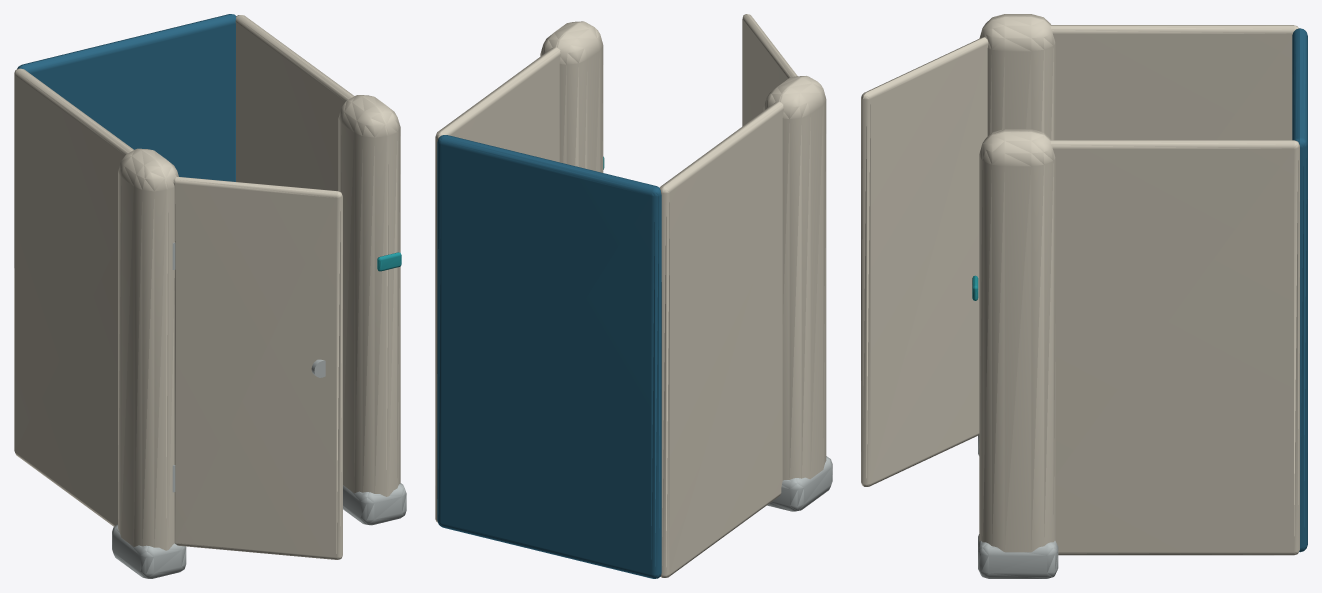
File: 13_advanced_cubicle.glb
3 renders of one model, left to right at view 1: azimuth 30°, elevation 25°; view 2: azimuth 150°, elevation 25°; view 3: azimuth 270°, elevation 25°, orthographic. The views are drawn at different scales.
Visible parts, largest first — view 1: 13_advanced_cubicle__Static, 13_advanced_cubicle__door_moving; view 2: 13_advanced_cubicle__Static, 13_advanced_cubicle__door_moving; view 3: 13_advanced_cubicle__Static, 13_advanced_cubicle__door_moving.
Part boxes in pixels (x1,y1,x2,y2): 13_advanced_cubicle__Static: (14,14,406,578); 13_advanced_cubicle__door_moving: (173,176,342,559); 13_advanced_cubicle__Static: (435,21,832,578); 13_advanced_cubicle__door_moving: (742,14,797,126); 13_advanced_cubicle__Static: (972,14,1307,578); 13_advanced_cubicle__door_moving: (861,37,988,486).
Bounding box in the file's own units: 1.35 × 2 × 1.84.
